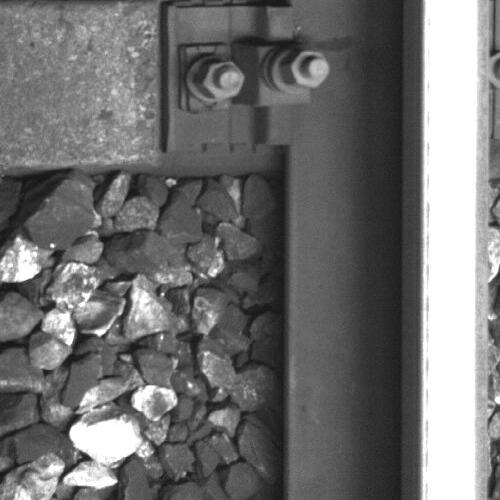kb: (175, 7, 331, 146)
nut: (192, 60, 246, 100), (278, 48, 330, 89)
rail: (422, 2, 488, 500)
tie_concr: (1, 1, 273, 162)
